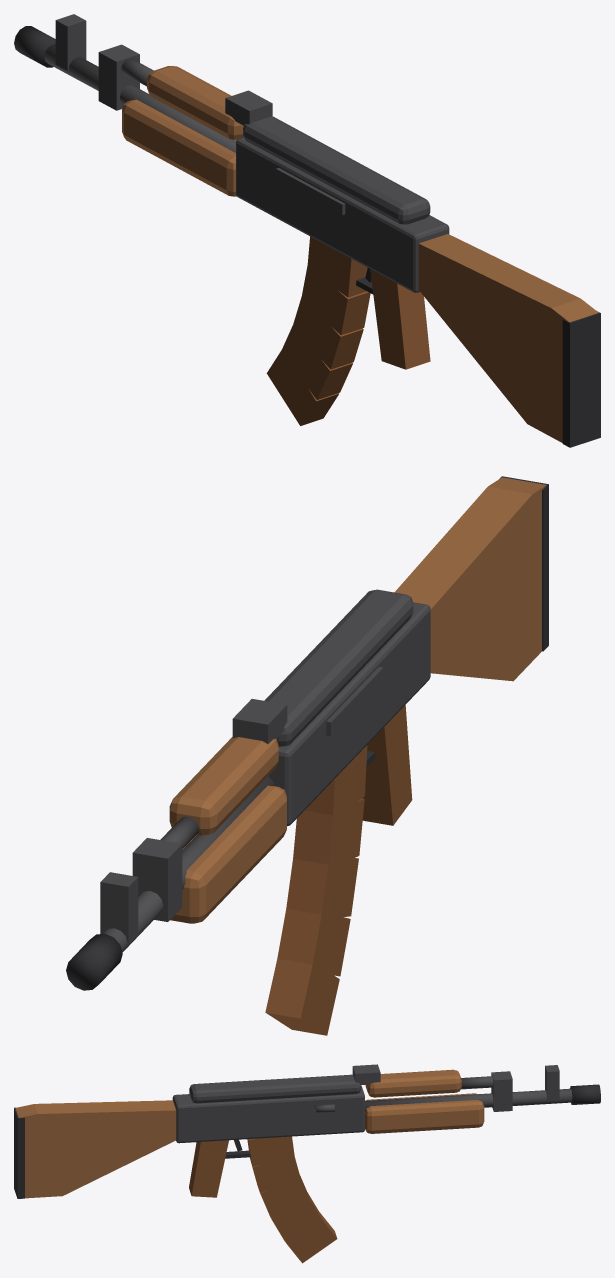
Rendered from rifle_world.glb.
3 views of the same model, one above another, from view 1: azimuth 30°, elevation 25°; view 2: azimuth 150°, elevation 25°; view 3: azimuth 270°, elevation 25° (orthographic). The views are drawn at different scales.
Visible parts, largest first — view 1: Stock, Receiver, DustCover, HandguardLow, ButtPlate, Grip, HandguardUp, Mag1, Mag2, Barrel, Mag3, Mag4 (+6 smaller); view 2: Stock, Receiver, DustCover, HandguardLow, HandguardUp, Grip, Mag4, Mag3, Mag1, Mag2, GasBlock, Barrel (+6 smaller); view 3: Stock, Receiver, HandguardLow, DustCover, HandguardUp, Grip, Barrel, Mag4, Mag2, Mag3, Mag1, Mag0 (+6 smaller).
Part boxes in pixels (box(x1,y1,x2,y2)): Stock: box(418, 234, 598, 442); Receiver: box(236, 137, 449, 292); DustCover: box(243, 116, 430, 224); HandguardLow: box(122, 99, 236, 196); ButtPlate: box(562, 311, 600, 447); Grip: box(370, 269, 430, 369); HandguardUp: box(147, 66, 243, 139); Mag1: box(301, 265, 370, 335); Mag2: box(292, 297, 363, 369); Barrel: box(44, 44, 235, 152); Mag3: box(282, 326, 352, 399); Mag4: box(266, 348, 339, 425); Stock: box(394, 477, 546, 681); Receiver: box(268, 602, 430, 826); DustCover: box(264, 589, 413, 746); HandguardLow: box(170, 785, 286, 923); HandguardUp: box(169, 737, 278, 835); Grip: box(362, 705, 412, 825); Mag4: box(265, 958, 339, 1035); Mag3: box(277, 908, 350, 976); Mag1: box(293, 798, 364, 869); Mag2: box(286, 858, 358, 918); GasBlock: box(132, 838, 182, 921); Barrel: box(102, 776, 274, 952); Stock: box(15, 1100, 176, 1198); Receiver: box(172, 1086, 364, 1143); HandguardLow: box(365, 1093, 484, 1133); DustCover: box(189, 1074, 361, 1103); HandguardUp: box(365, 1069, 461, 1097); Grip: box(189, 1140, 228, 1197); Barrel: box(365, 1088, 572, 1110); Mag4: box(285, 1212, 337, 1263); Mag2: box(260, 1175, 310, 1217); Mag3: box(271, 1192, 322, 1241); Mag1: box(250, 1156, 300, 1192); Mag0: box(247, 1136, 294, 1166).
Size of the model in its own units: 0.1271 by 0.2512 by 0.7168.
